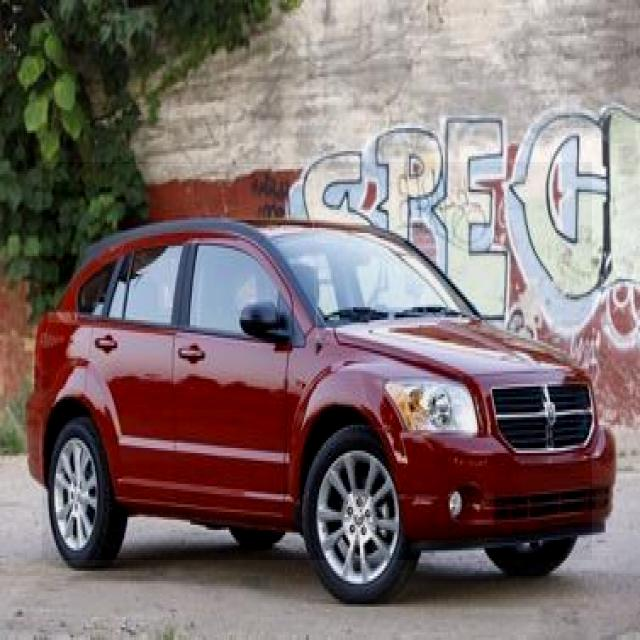Car: (42, 162, 592, 560)
